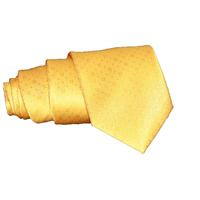tie: (3, 45, 174, 154)
